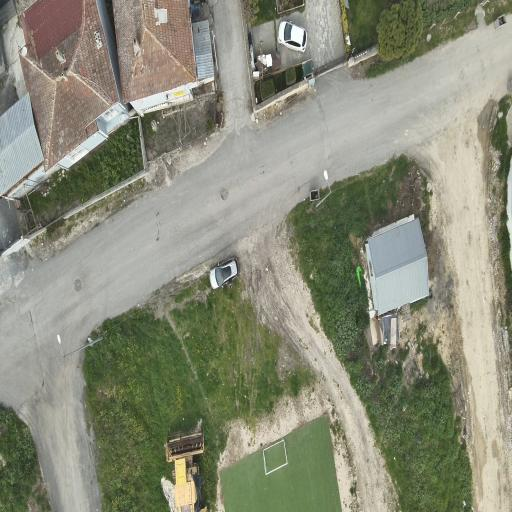car: (210, 258, 239, 289), (278, 22, 307, 52)
harvester: (167, 429, 206, 511)
